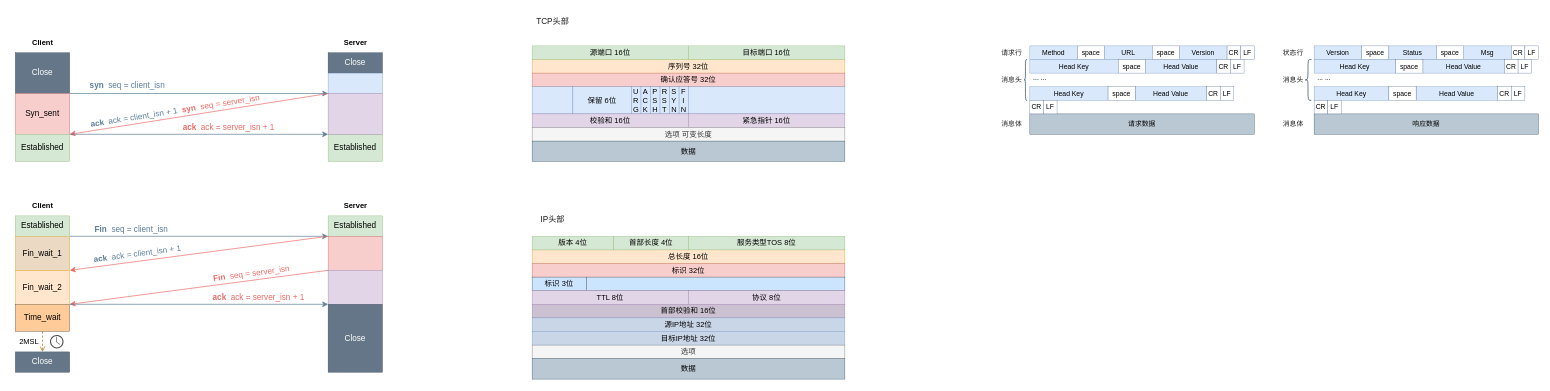
Image size: 1550x391. Some labels were removed from this diagram. Each missing label, with the centre of its shape:
"Close_wait" belongs at pixel 355 253.
"Last_ack" belongs at pixel 355 287.
"Listen" belongs at pixel 355 83.
"Syn_rcvd" belongs at pixel 355 113.
"片偏移 13位" belongs at pixel 715 284.
"窗口大小 16位" belongs at pixel 766 100.
"首部 4位" belongs at pixel 552 100.
